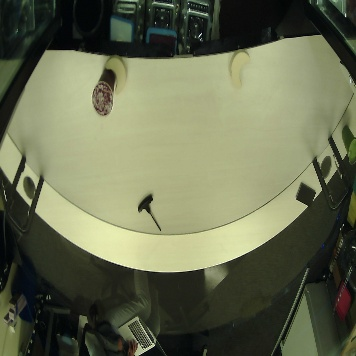full_cup: (91, 69, 115, 116), (340, 122, 356, 160)
puck: (229, 49, 250, 89), (105, 56, 126, 96)
